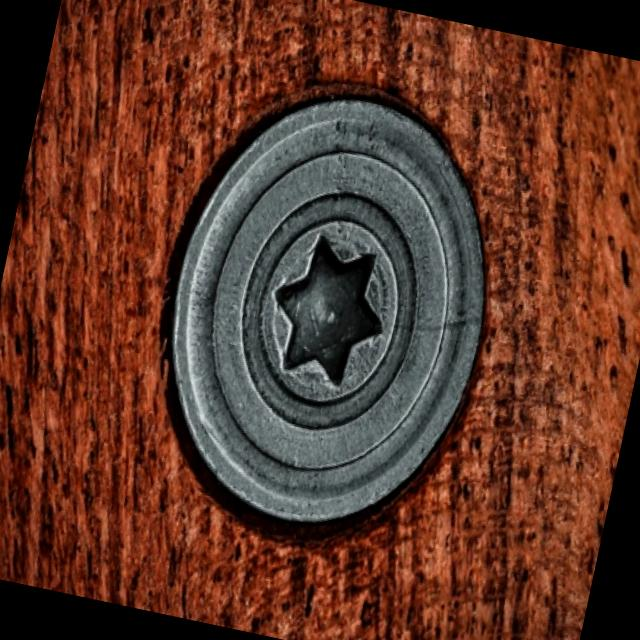Torx: (134, 66, 526, 556)
